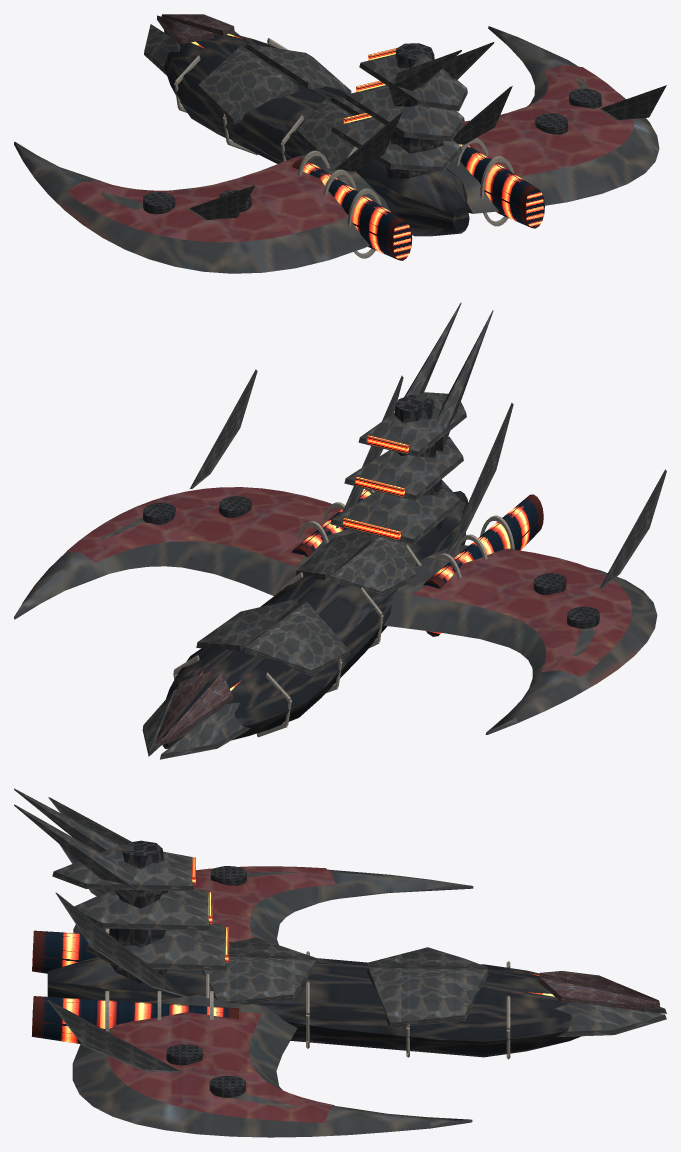
Rendered from dynasty_cruiser_recreated_lod1.glb.
3 views of the same model, one above another, from view 1: azimuth 30°, elevation 25°; view 2: azimuth 150°, elevation 25°; view 3: azimuth 270°, elevation 25° (orthographic).
Parts seen in each view (by area): view 1: dynasty_cruiser_lod_source; view 2: dynasty_cruiser_lod_source; view 3: dynasty_cruiser_lod_source.
Part boxes in pixels (x1,y1,x2,y2): dynasty_cruiser_lod_source: (14, 14, 666, 273); dynasty_cruiser_lod_source: (14, 302, 666, 759); dynasty_cruiser_lod_source: (14, 788, 666, 1137).
Size of the model in its own units: 2.73 by 1.2 by 2.85.
Materials: 1 (1 with a texture image).
